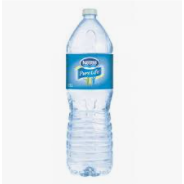Bottle: (66, 9, 113, 174)
